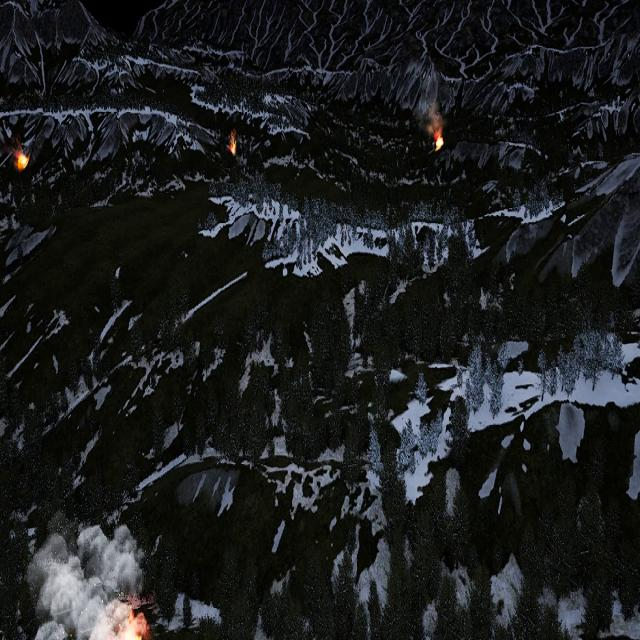fire: (118, 611, 148, 640), (15, 154, 27, 170), (231, 132, 238, 155), (434, 133, 443, 150)
smoke: (22, 520, 142, 636), (414, 64, 442, 134)
